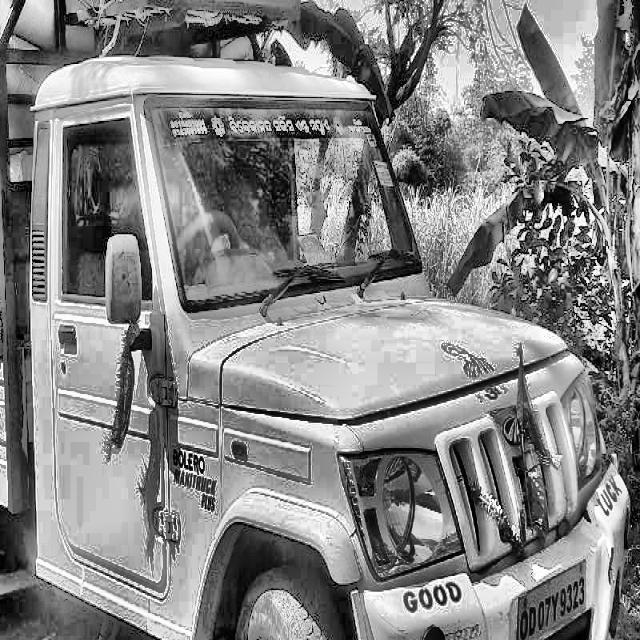light_vehicle: (0, 38, 630, 640)
